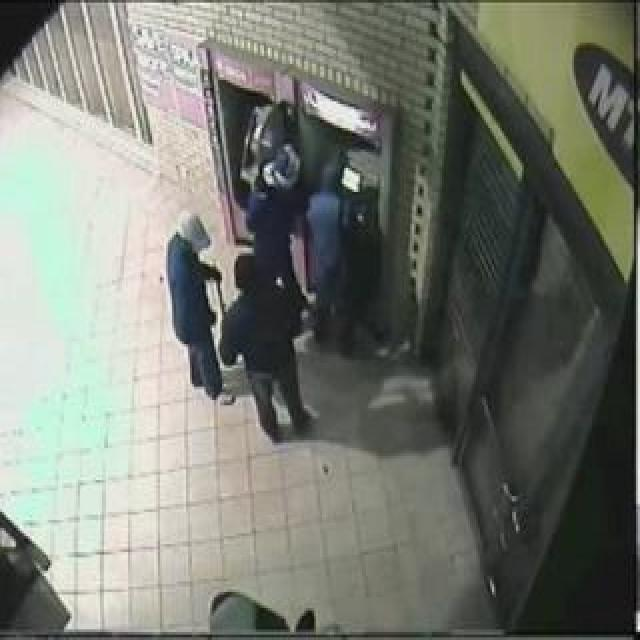thief: (148, 172, 357, 378)
